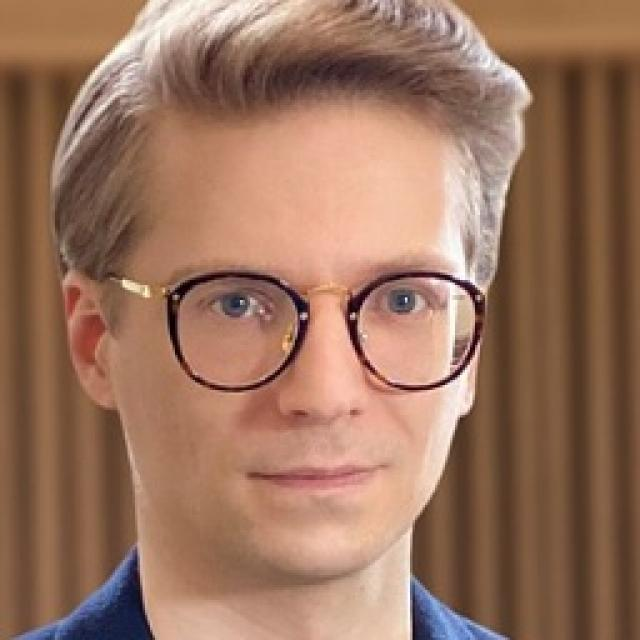glasses: (107, 253, 493, 400)
